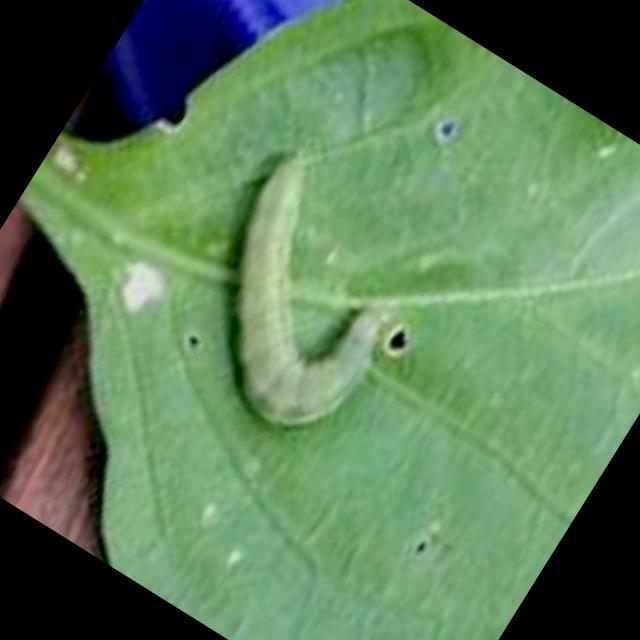Beet armyworm: (126, 108, 478, 476)
